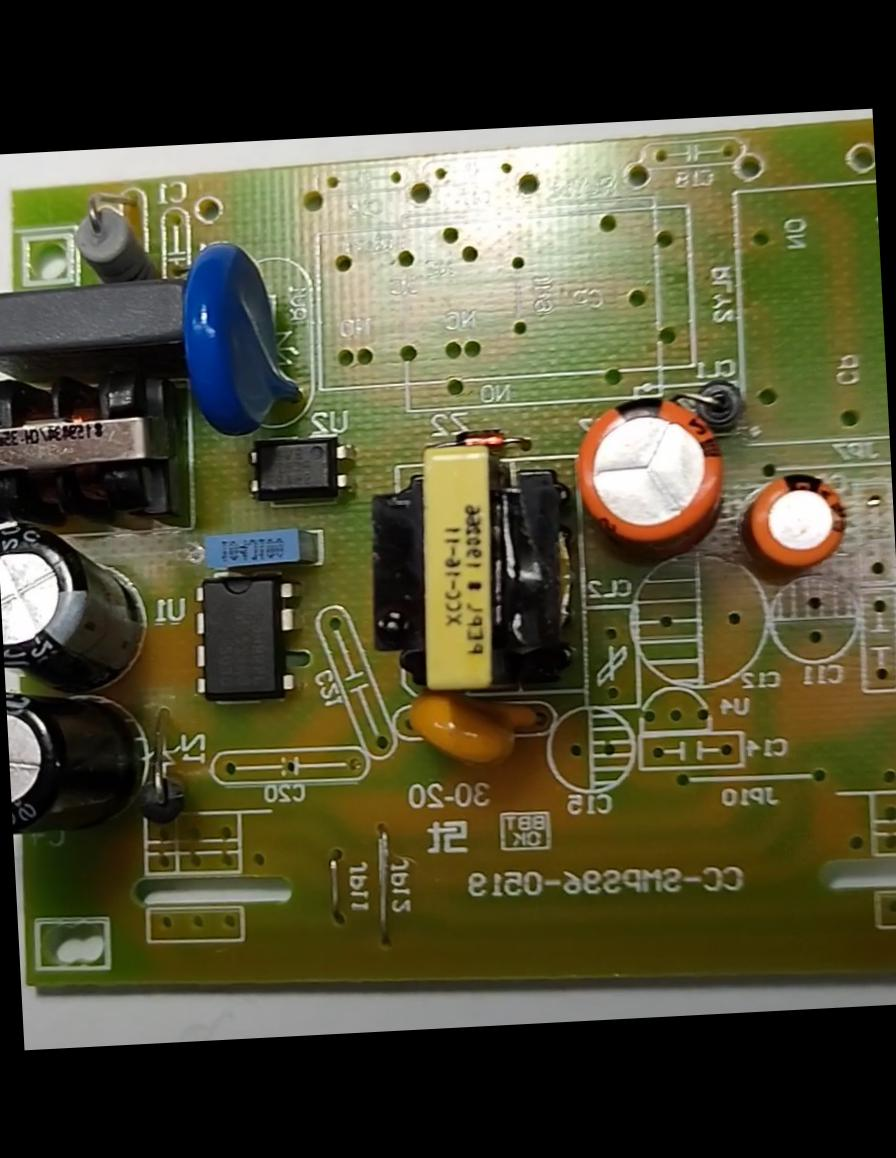Cap1: (565, 386, 734, 552)
Cap2: (742, 464, 859, 566)
Cap3: (0, 512, 151, 689)
Cap4: (5, 679, 160, 836)
MOSFET: (188, 572, 296, 697)
Mov: (175, 229, 313, 438)
Resistor: (60, 196, 154, 281)
Transformer: (363, 434, 573, 702), (0, 359, 179, 526)
